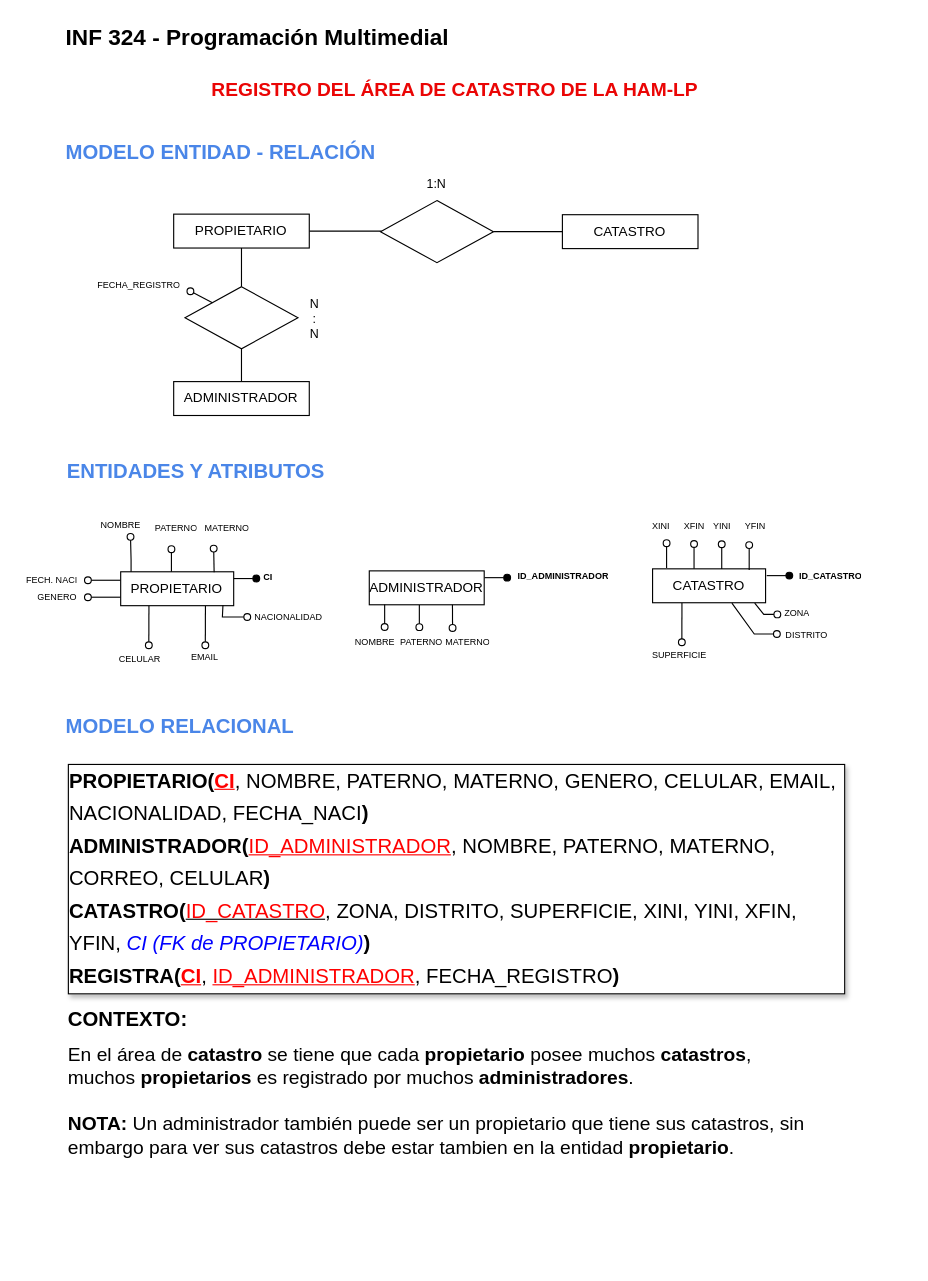
Some shapes in this 928 by 1281 pixel diagram are drawn without their labels. The shapes that lost their labels are listed below. From the top down, each one's centre as x and y in pixels, then its label:
(x=436, y=231): POSEE
(x=241, y=317): REGISTRA
